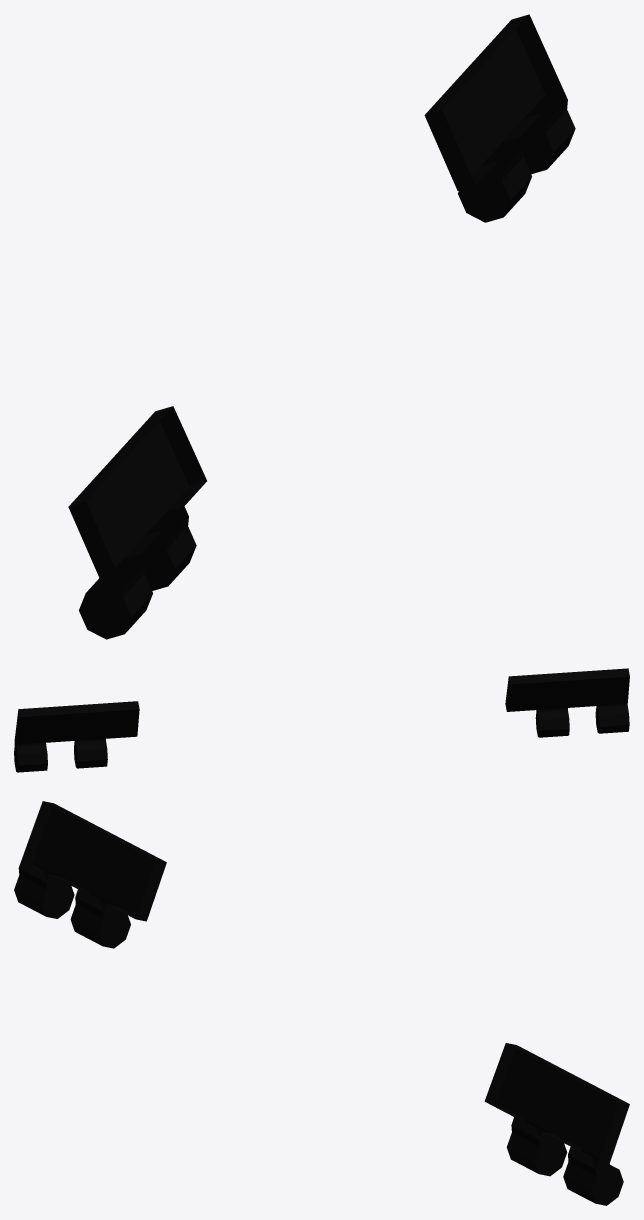
The model's file is mesh35.dat.obj.
The picture shows the model from 3 angles, top to bottom: view 1: azimuth 30°, elevation 25°; view 2: azimuth 150°, elevation 25°; view 3: azimuth 270°, elevation 25°; orthographic projection. The views are drawn at different scales.
Parts seen in each view (by area): view 1: hinge_top_low; view 2: hinge_top_low; view 3: hinge_top_low.
Part boxes in pixels (x1=…): hinge_top_low: x1=68, y1=14, x2=575, y2=639; hinge_top_low: x1=14, y1=668, x2=629, y2=772; hinge_top_low: x1=14, y1=801, x2=629, y2=1205.
Size of the model in its own units: 2.61 by 0.3844 by 2.16.
Materials: 1 (1 with a texture image).
